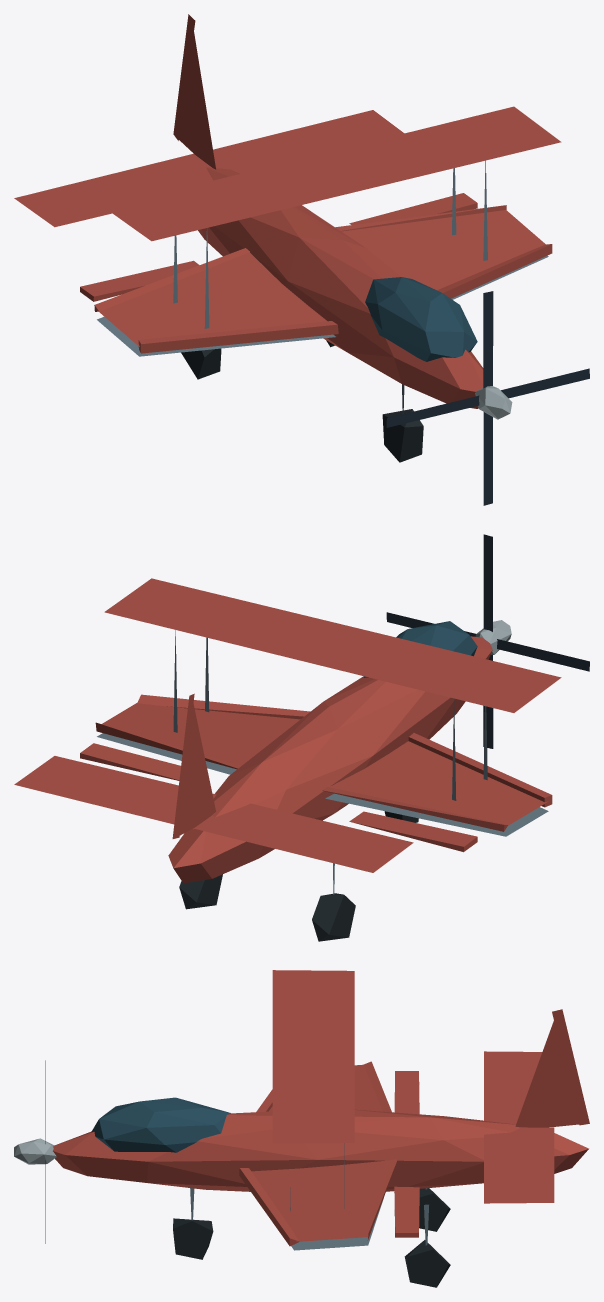
The model's file is aircraft-biplane.lod2.glb.
The picture shows the model from 3 angles, top to bottom: view 1: azimuth 30°, elevation 25°; view 2: azimuth 150°, elevation 25°; view 3: azimuth 270°, elevation 25°; orthographic projection. The views are drawn at different scales.
Parts seen in each view (by area): view 1: aircraft-biplane__body, aircraft-biplane__propeller_0, aircraft-biplane__aileron_-1, aircraft-biplane__gear_0, aircraft-biplane__aileron_1, aircraft-biplane__gear_-0p85; view 2: aircraft-biplane__body, aircraft-biplane__propeller_0, aircraft-biplane__aileron_-1, aircraft-biplane__gear_-0p85, aircraft-biplane__aileron_1, aircraft-biplane__gear_0p85; view 3: aircraft-biplane__body, aircraft-biplane__gear_0p85, aircraft-biplane__gear_0, aircraft-biplane__aileron_1, aircraft-biplane__aileron_-1, aircraft-biplane__propeller_0, aircraft-biplane__gear_-0p85.
Boxes of the visible parts, x1,y1,x2,y2 form: aircraft-biplane__body: (14,14,561,408); aircraft-biplane__propeller_0: (386,291,589,505); aircraft-biplane__aileron_-1: (80,260,199,301); aircraft-biplane__gear_0: (382,384,423,462); aircraft-biplane__aileron_1: (349,193,477,224); aircraft-biplane__gear_-0p85: (181,348,221,379); aircraft-biplane__body: (14,578,561,883); aircraft-biplane__propeller_0: (386,534,589,748); aircraft-biplane__aileron_-1: (349,811,477,852); aircraft-biplane__gear_-0p85: (312,863,355,941); aircraft-biplane__aileron_1: (80,743,180,780); aircraft-biplane__gear_0p85: (179,874,222,909); aircraft-biplane__body: (53,970,589,1250); aircraft-biplane__gear_0p85: (404,1204,450,1287); aircraft-biplane__gear_0: (173,1188,213,1259); aircraft-biplane__aileron_1: (394,1186,419,1237); aircraft-biplane__aileron_-1: (394,1071,419,1114); aircraft-biplane__propeller_0: (14,1060,56,1243); aircraft-biplane__gear_-0p85: (419,1188,450,1231).
Bounding box in the file's own units: 5.27 × 3.49 × 7.4.
